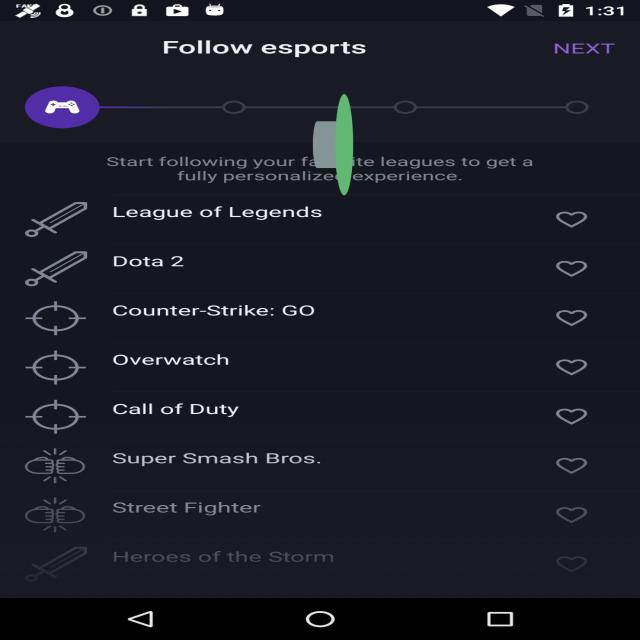social proof: (313, 31, 353, 258)
